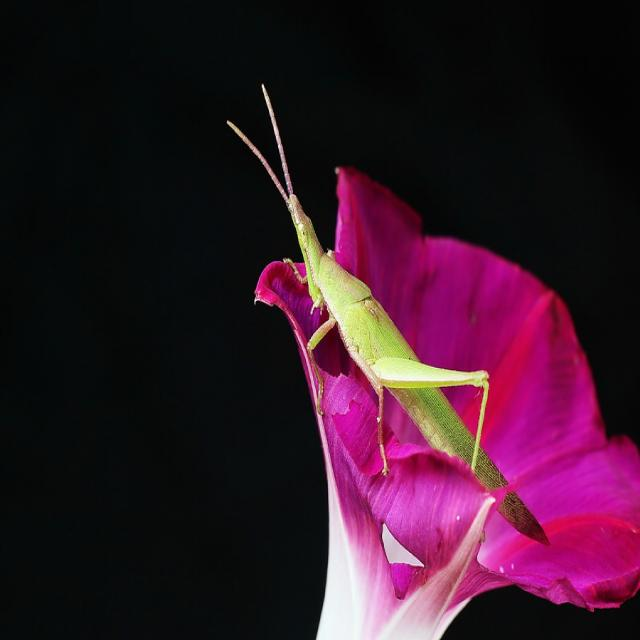ZhaMeng: (217, 84, 551, 542)
